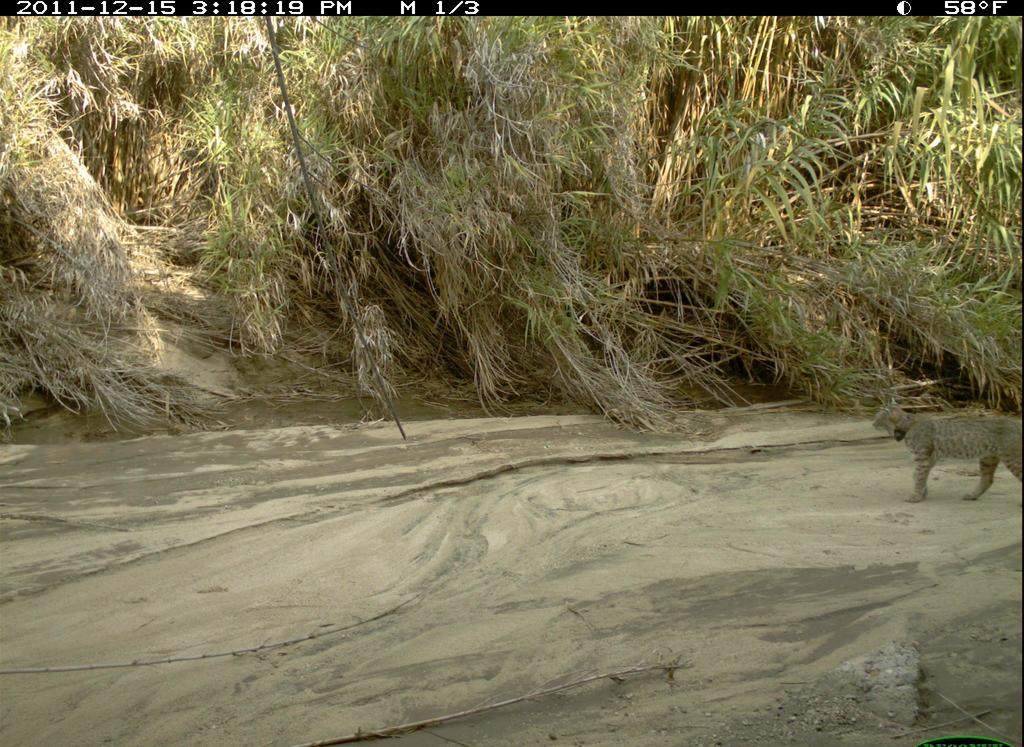bobcat: (868, 397, 1022, 506)
